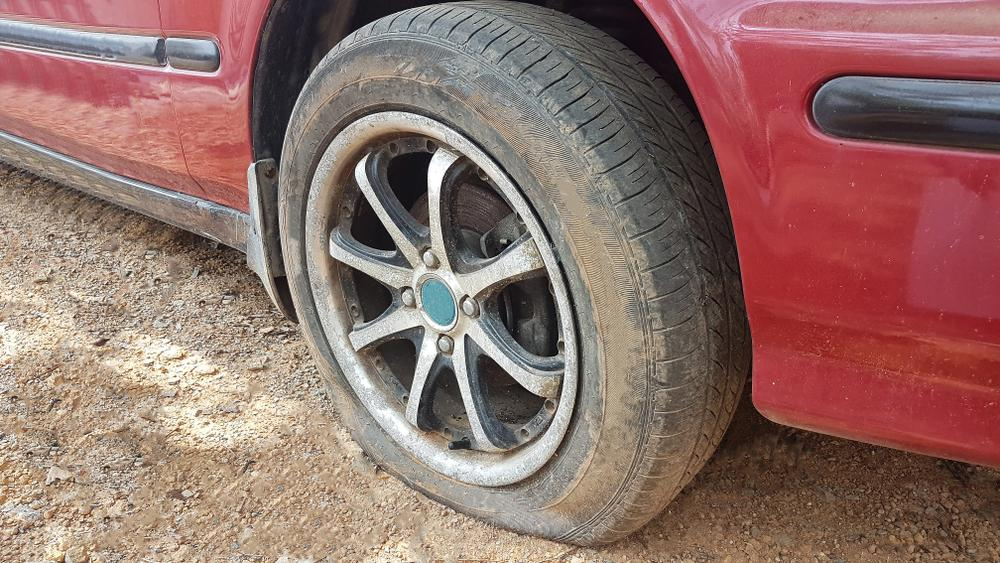tire flat: (278, 0, 752, 547)
